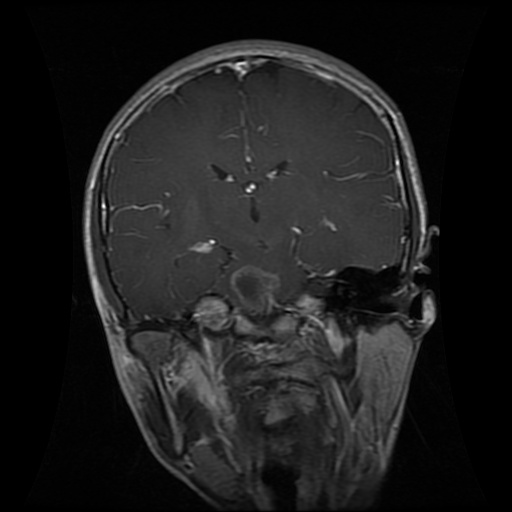glioma: (227, 264, 283, 319)
